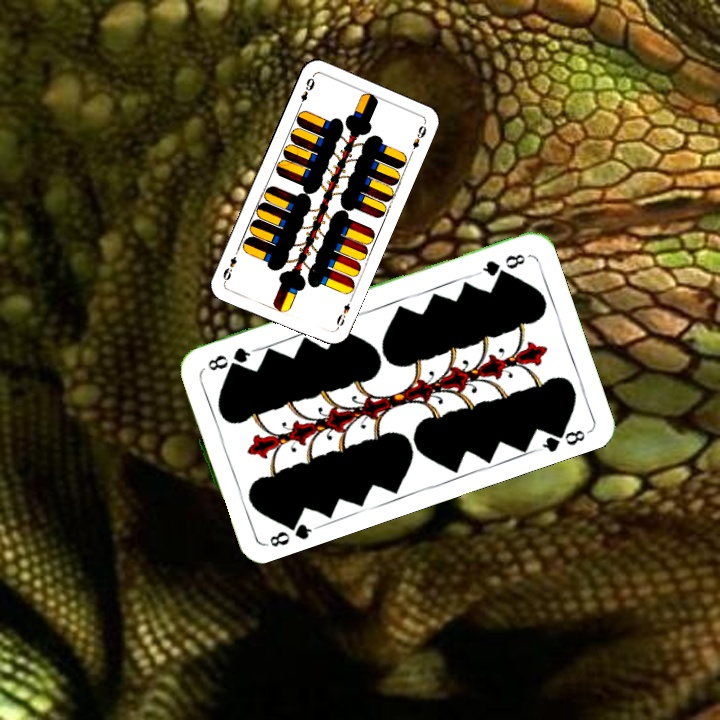E9: (294, 72, 317, 111), (332, 294, 355, 332)
G8: (260, 514, 317, 550), (473, 250, 528, 279)
